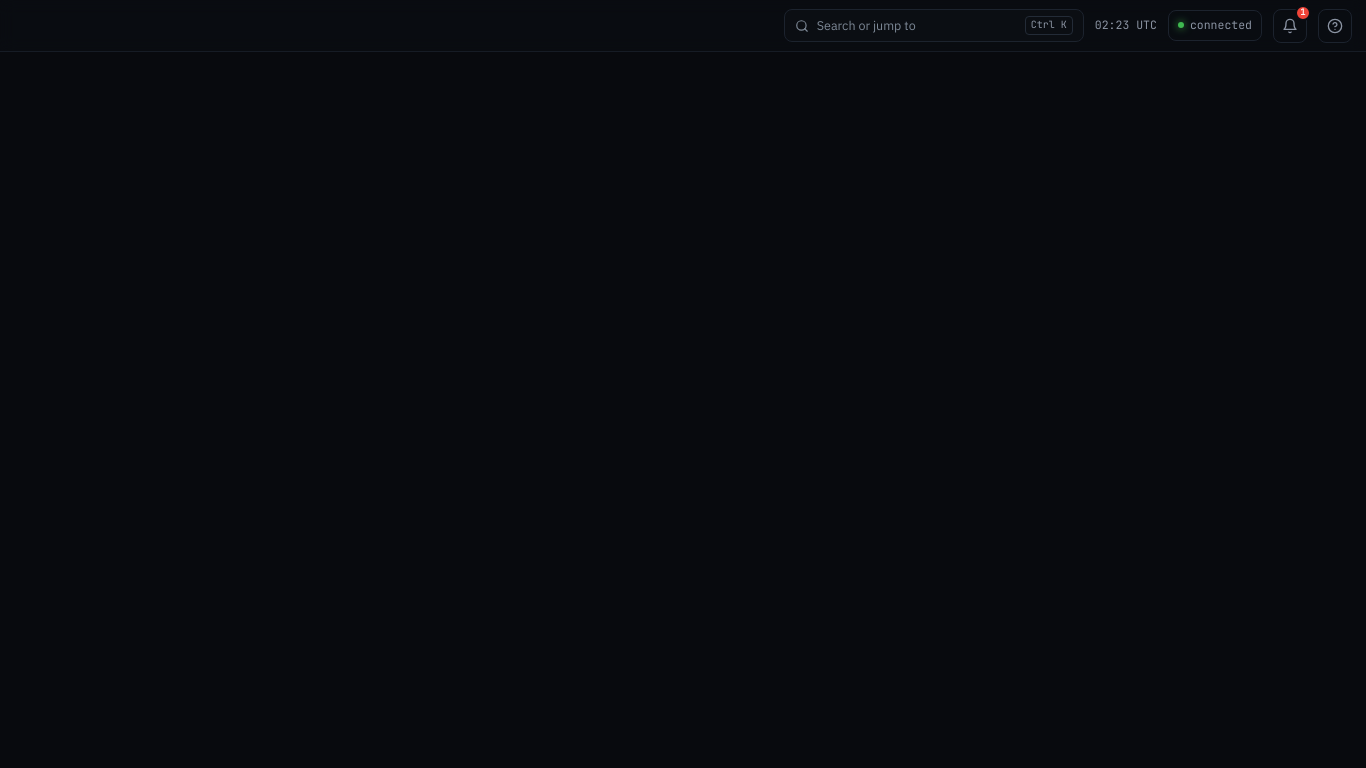
Test: Topbar notification rows are reachable from the keyboard › opens once from a click on the row outside the text, and Dismiss does not open it
Click the button named "Notifications" at (1290, 26), box [1273, 8, 1307, 42]
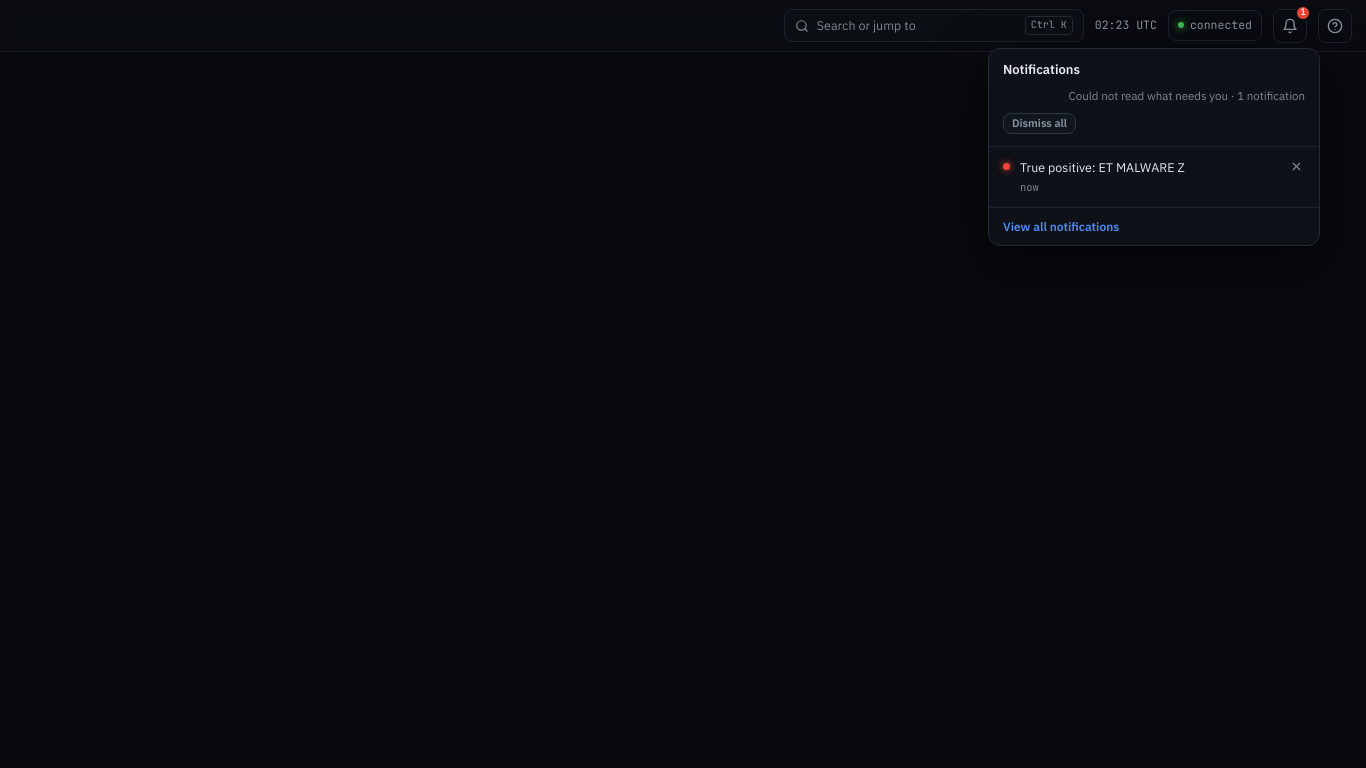
Click the element showing "True positive: ET MALWARE Z now" at (1154, 177), box [989, 148, 1319, 207]
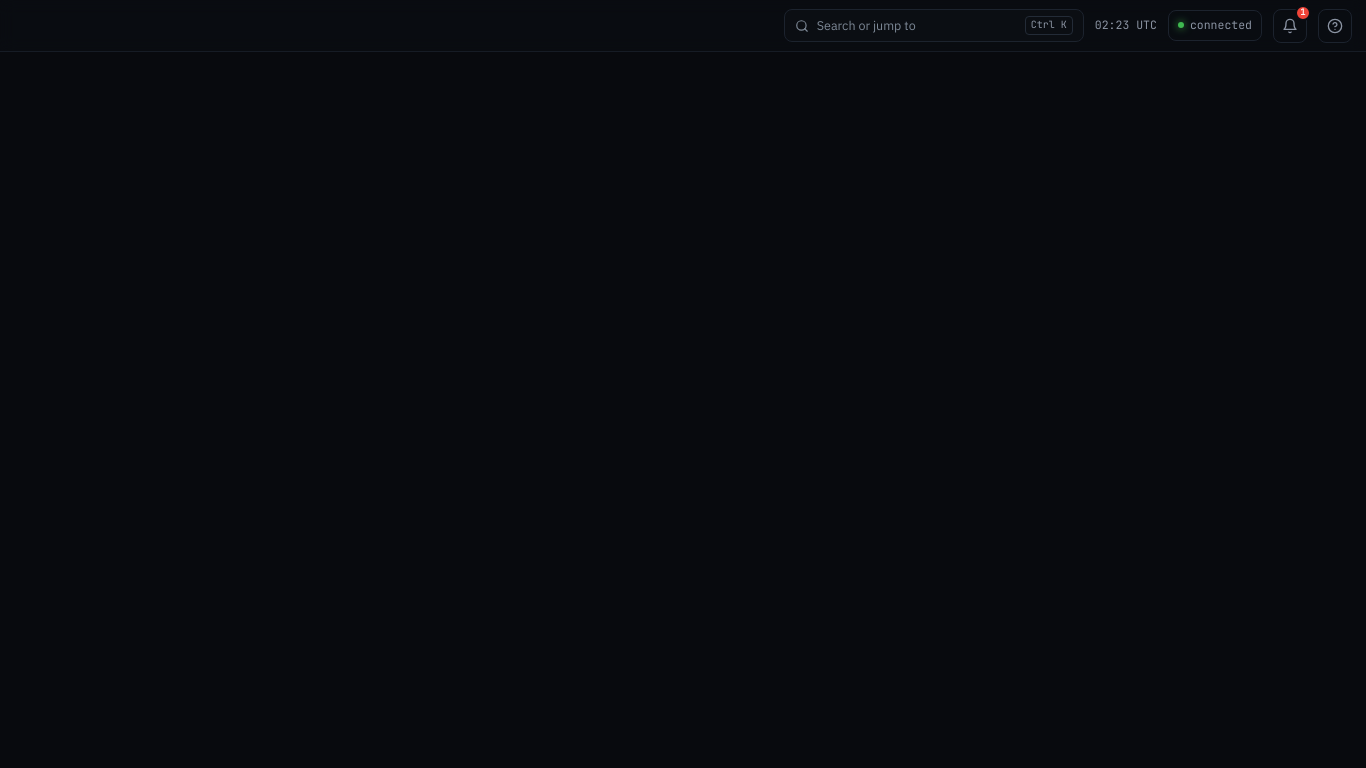
Click the button named "Notifications" at (1290, 26), box [1273, 8, 1307, 42]
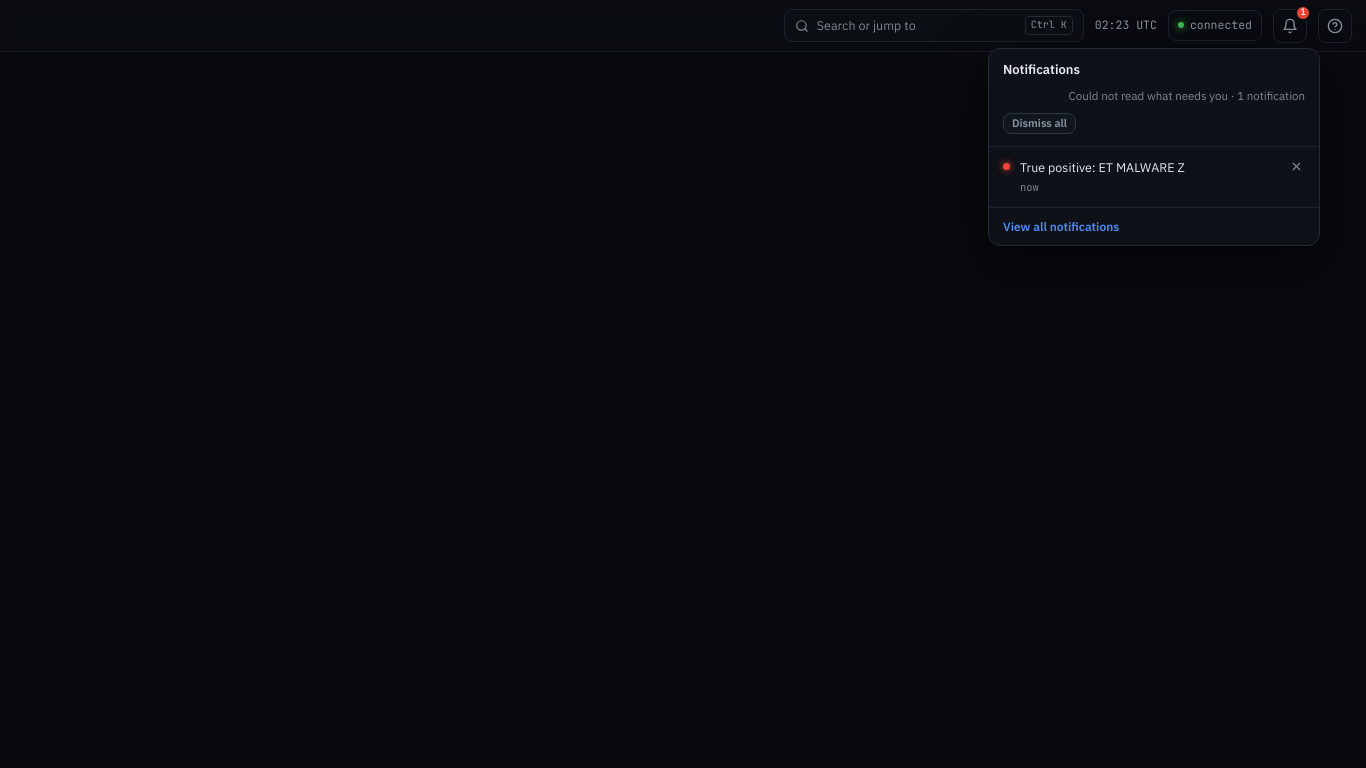
Click the button named "Dismiss" at (1296, 167), box [1288, 158, 1305, 176]
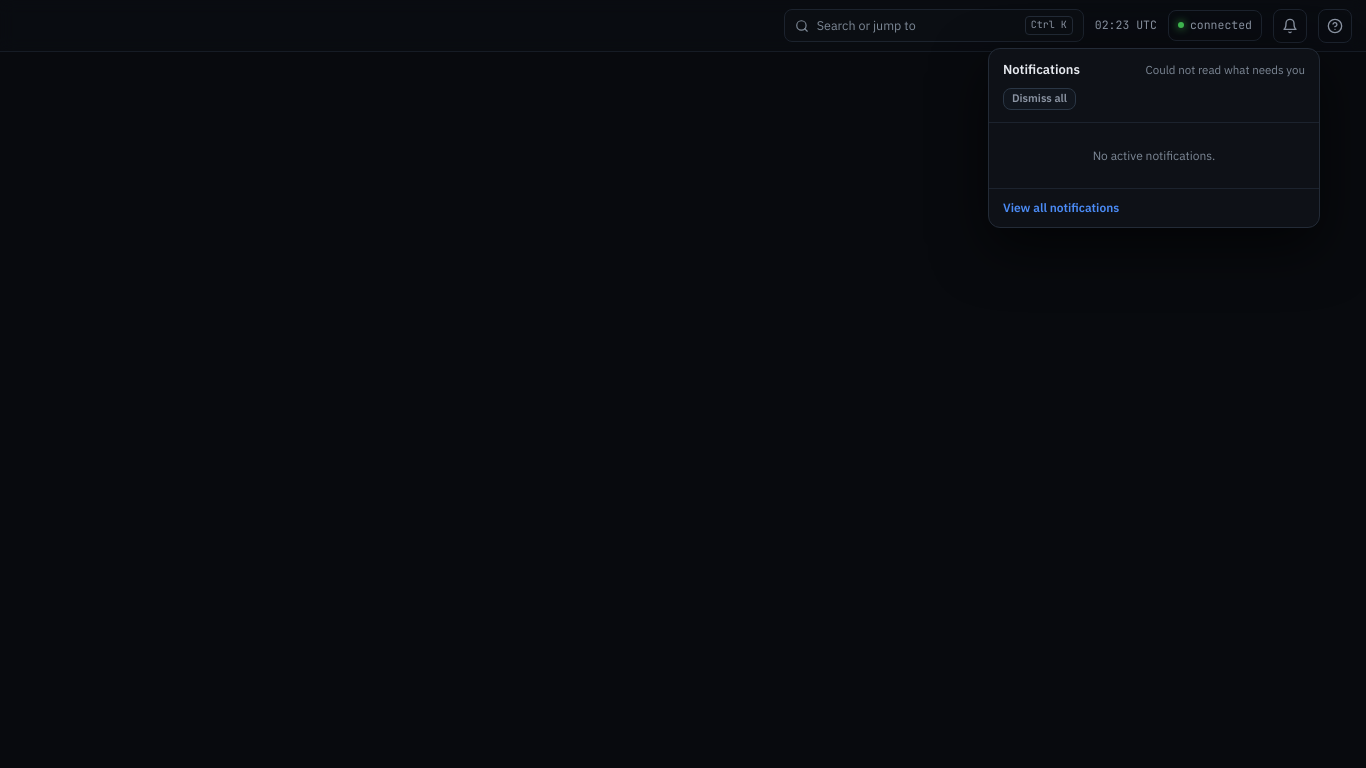
Now the button "True positive: ET MALWARE Z" is gone
